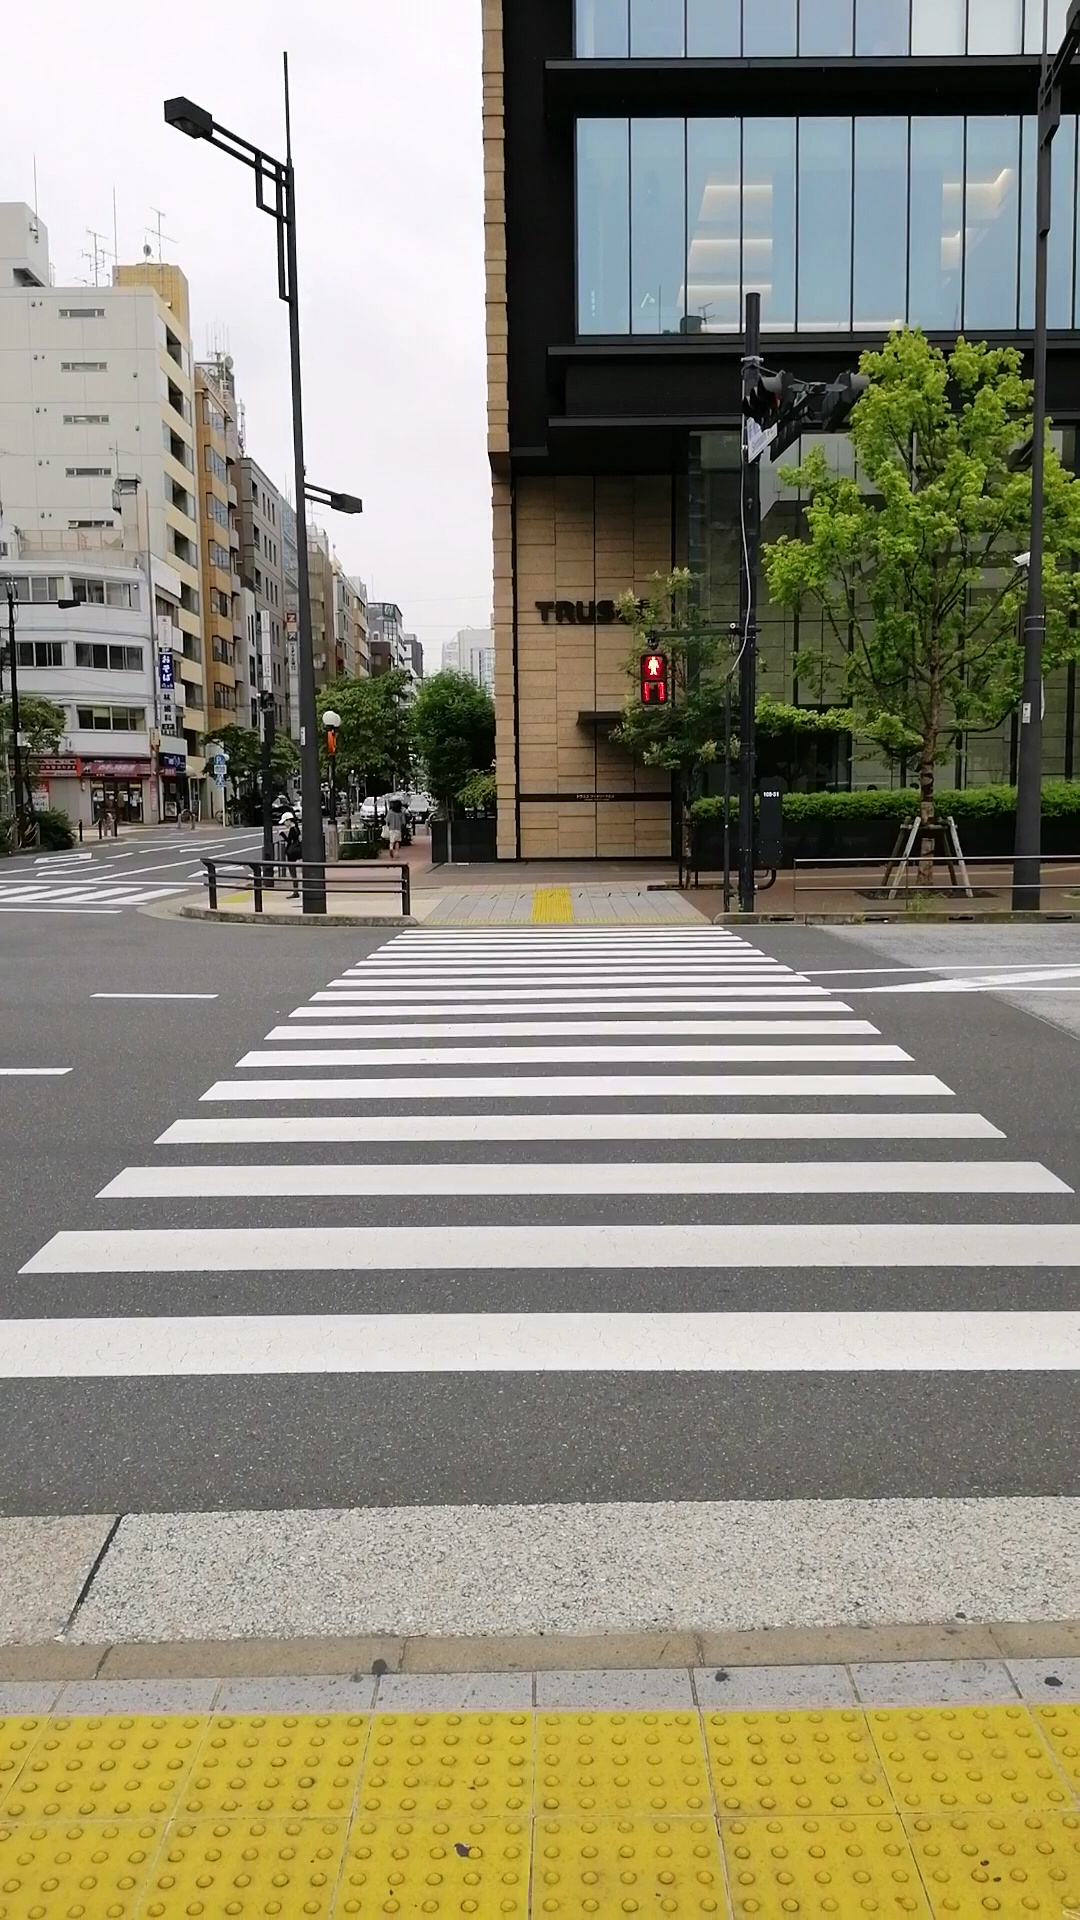red: (640, 649, 669, 705)
